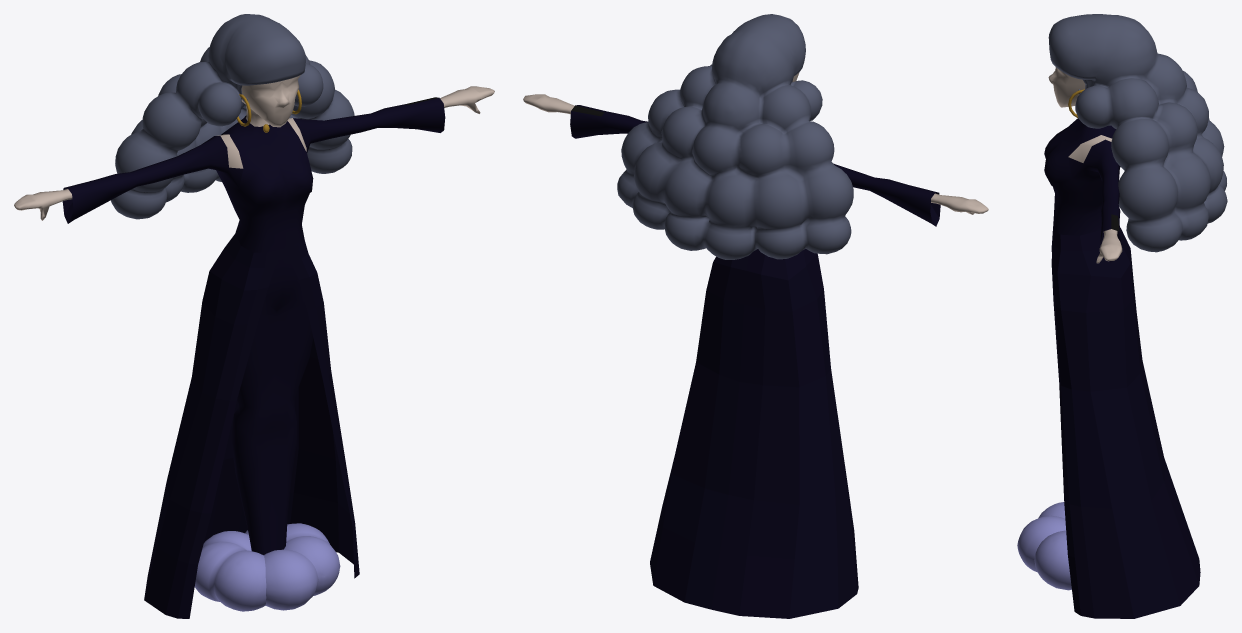
The model's file is SkyWitch02.fbx.
3 views of the same model, side by side, from view 1: azimuth 30°, elevation 25°; view 2: azimuth 150°, elevation 25°; view 3: azimuth 270°, elevation 25° (orthographic). The views are drawn at different scales.
Parts seen in each view (by area): view 1: Lace002, BaseBody005, HairFinal003, DressCloud; view 2: Lace002, HairFinal003, BaseBody005; view 3: Lace002, HairFinal003, BaseBody005, DressCloud.
Part boxes in pixels (box(x1,y1,x2,y2)): Lace002: box(144, 115, 359, 618); BaseBody005: box(14, 75, 494, 554); HairFinal003: box(111, 14, 354, 219); DressCloud: box(194, 523, 340, 611); Lace002: box(650, 249, 858, 618); HairFinal003: box(617, 14, 853, 259); BaseBody005: box(523, 72, 988, 226); Lace002: box(1044, 118, 1200, 618); HairFinal003: box(1048, 14, 1227, 252); BaseBody005: box(1048, 67, 1122, 263); DressCloud: box(1017, 502, 1071, 590).
Size of the model in its own units: 122 by 138 by 47.31.
